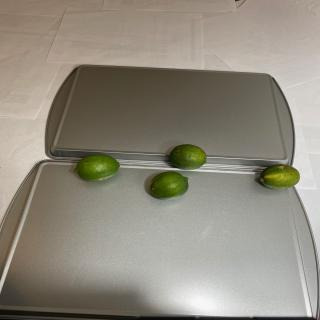Lemon: (73, 154, 120, 182), (149, 171, 189, 200), (260, 164, 300, 189), (169, 144, 207, 170)
